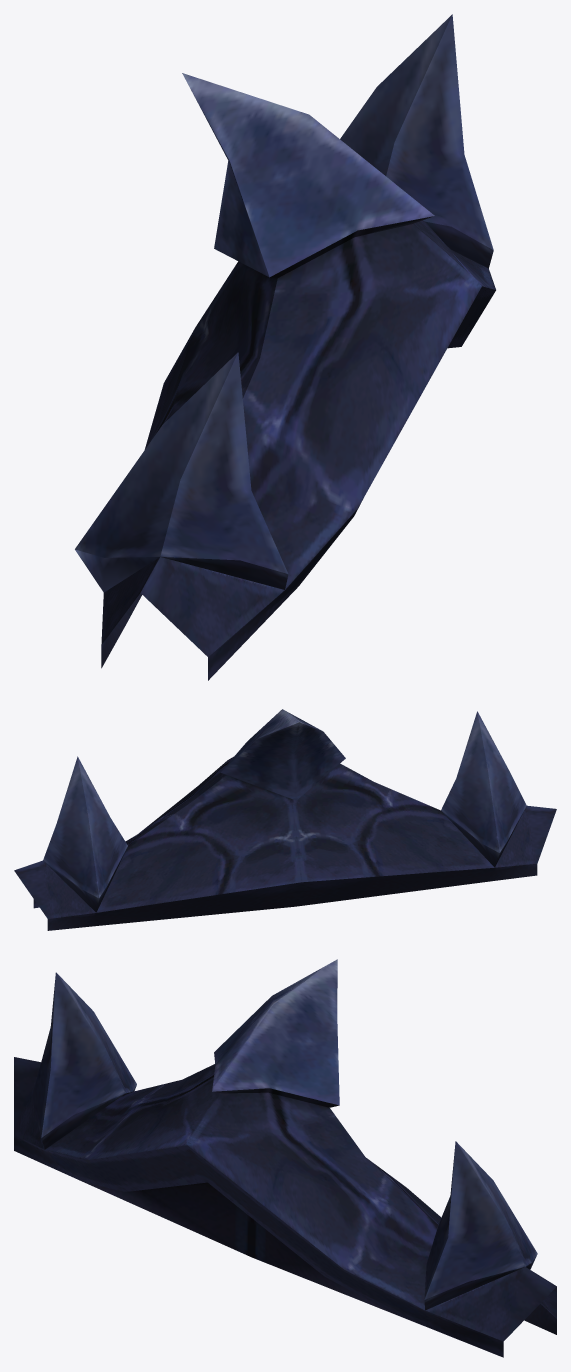
File: palace_cap_diagonal_01.fbx
The picture shows the model from 3 angles, top to bottom: view 1: azimuth 30°, elevation 25°; view 2: azimuth 150°, elevation 25°; view 3: azimuth 270°, elevation 25°; orthographic projection. The views are drawn at different scales.
Parts seen in each view (by area): view 1: palace_tileset/palace_railing01_mat; view 2: palace_tileset/palace_railing01_mat; view 3: palace_tileset/palace_railing01_mat.
Part boxes in pixels (x1=…): palace_tileset/palace_railing01_mat: x1=75, y1=14, x2=495, y2=680; palace_tileset/palace_railing01_mat: x1=14, y1=709, x2=556, y2=930; palace_tileset/palace_railing01_mat: x1=14, y1=959, x2=556, y2=1357.
Size of the model in its own units: 4 by 2.13 by 4.
